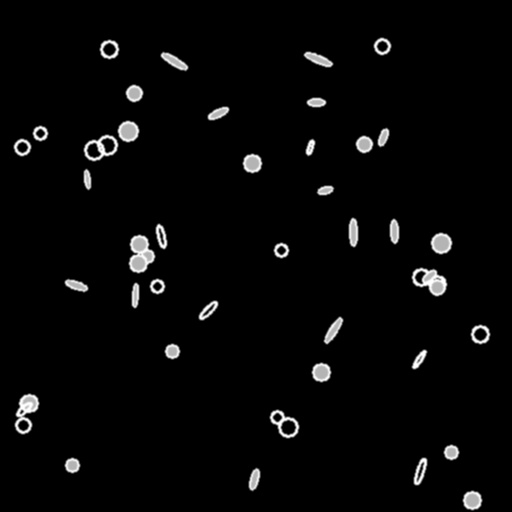pseudomonas: (160, 51, 188, 71), (323, 317, 343, 343), (304, 50, 332, 68), (197, 299, 219, 321), (413, 458, 427, 484), (64, 278, 88, 292), (15, 400, 33, 418), (411, 349, 427, 369), (207, 106, 229, 120), (420, 268, 438, 284), (155, 225, 167, 247), (248, 468, 260, 490), (377, 128, 389, 146), (349, 219, 357, 245), (390, 220, 398, 242), (305, 139, 315, 155), (317, 185, 333, 195), (132, 283, 138, 307), (83, 170, 91, 188), (308, 99, 324, 105)
synechocystis: (279, 418, 297, 436), (432, 234, 450, 252), (119, 122, 137, 140), (98, 136, 116, 154), (85, 141, 103, 159), (130, 255, 146, 271), (313, 364, 329, 380), (429, 276, 445, 292), (413, 269, 429, 285), (131, 236, 147, 252), (101, 41, 117, 57), (472, 326, 488, 342), (21, 395, 37, 411), (464, 492, 480, 508), (244, 155, 260, 171), (375, 39, 389, 53), (15, 140, 29, 154), (16, 418, 30, 432), (127, 86, 141, 100), (430, 280, 444, 294), (357, 137, 371, 151), (34, 127, 46, 139), (141, 250, 153, 262), (20, 397, 32, 409), (166, 345, 178, 357), (445, 446, 457, 458), (151, 280, 163, 292), (275, 244, 287, 256), (66, 459, 78, 471), (271, 411, 283, 423)
